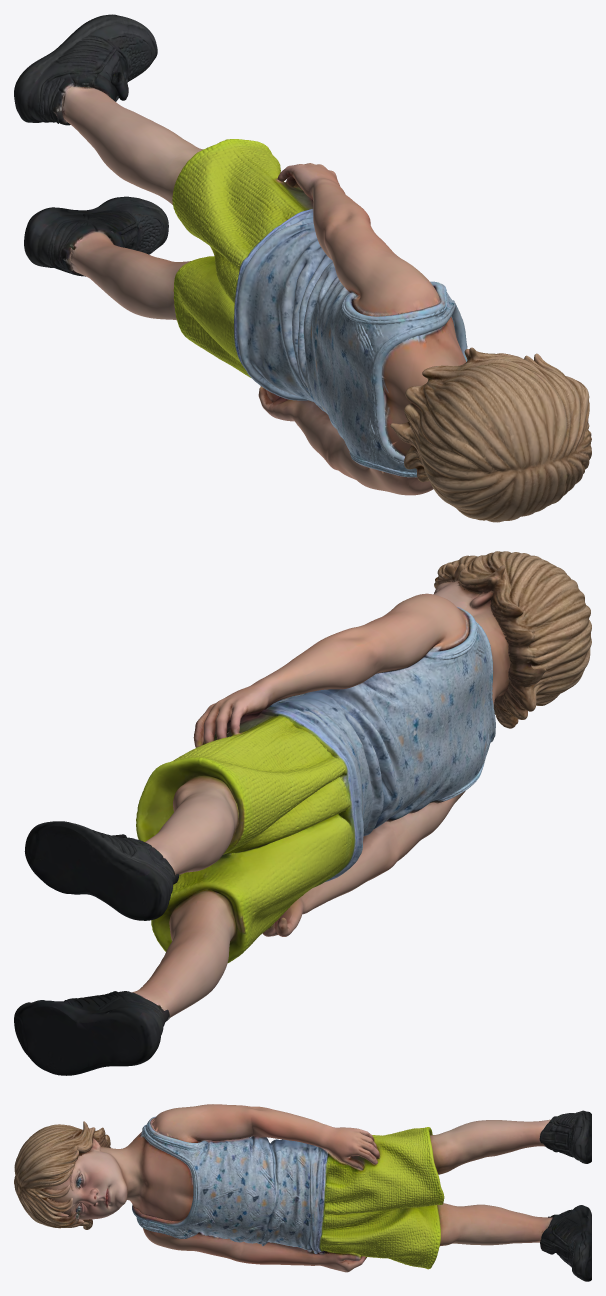
The model's file is Phoenix.glb.
The picture shows the model from 3 angles, top to bottom: view 1: azimuth 30°, elevation 25°; view 2: azimuth 150°, elevation 25°; view 3: azimuth 270°, elevation 25°; orthographic projection. The views are drawn at different scales.
Parts seen in each view (by area): view 1: tripo_node_ace23600-451e-42c7-985c-95ea1b248745; view 2: tripo_node_ace23600-451e-42c7-985c-95ea1b248745; view 3: tripo_node_ace23600-451e-42c7-985c-95ea1b248745.
Boxes of the visible parts, x1,y1,x2,y2 form: tripo_node_ace23600-451e-42c7-985c-95ea1b248745: (14, 14, 591, 522); tripo_node_ace23600-451e-42c7-985c-95ea1b248745: (14, 551, 591, 1075); tripo_node_ace23600-451e-42c7-985c-95ea1b248745: (14, 1104, 591, 1281).
Size of the model in its own units: 11.12 by 16.89 by 55.
Materials: 1 (1 with a texture image).
